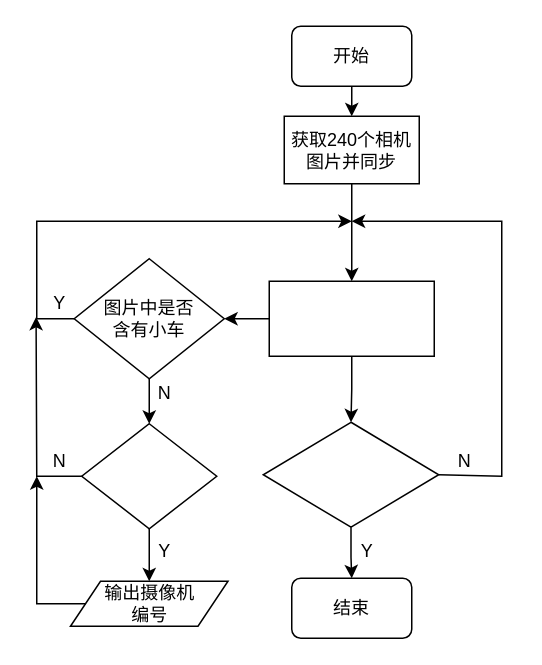
The diagram is 542 pixels wide and 665 high, and some of its shapes have lost their labels. The shapes that lost their labels are listed below. From the top down, each one's centre as x and y in pixels, then its label:
At [351,318]: "将240张图片以15张为一个单位送入yolov3进行检测".
At [148,475]: "是否含有 障碍物".
At [350,474]: "240张图片是否 检测完毕".
